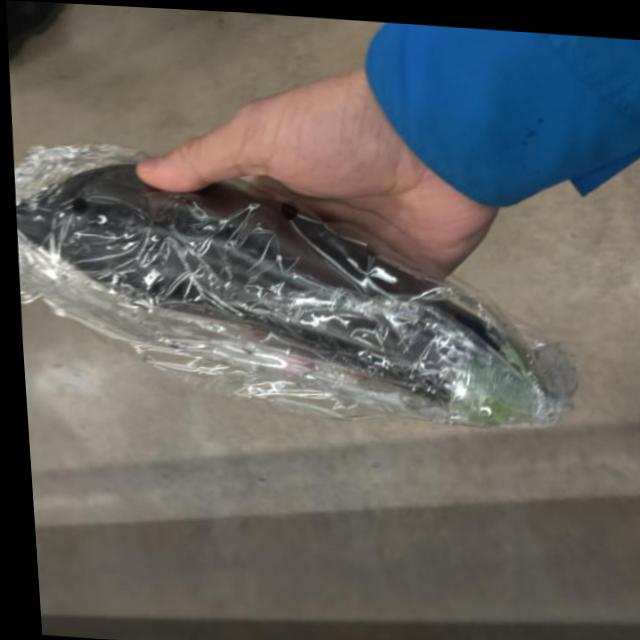Eggplant: (8, 160, 552, 411)
